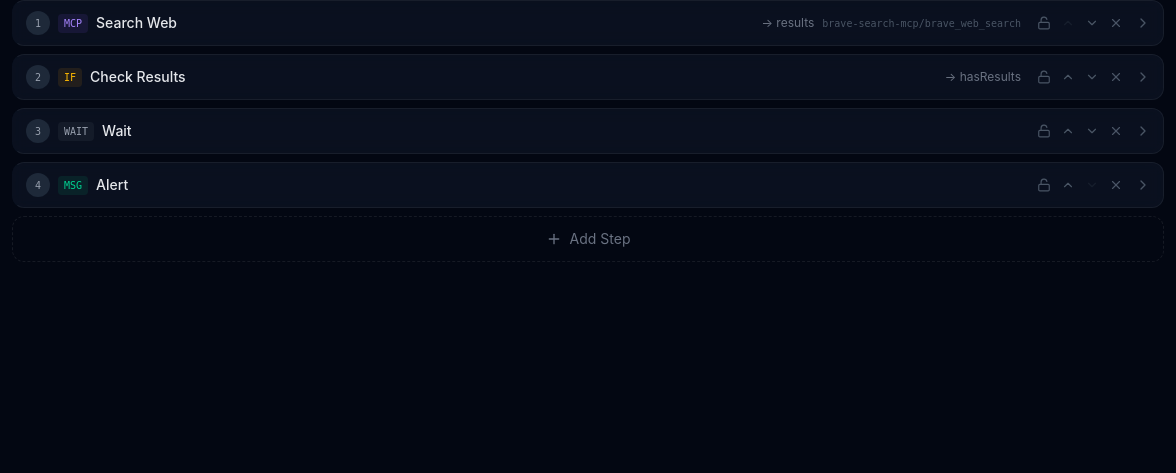
Test: StepEditorPanel › clicking Add Step shows type menu
The width and height of the screenshot is (1176, 473).
Step 1. Click the button "Add Step" → (588,239), box [12,216,1164,262]
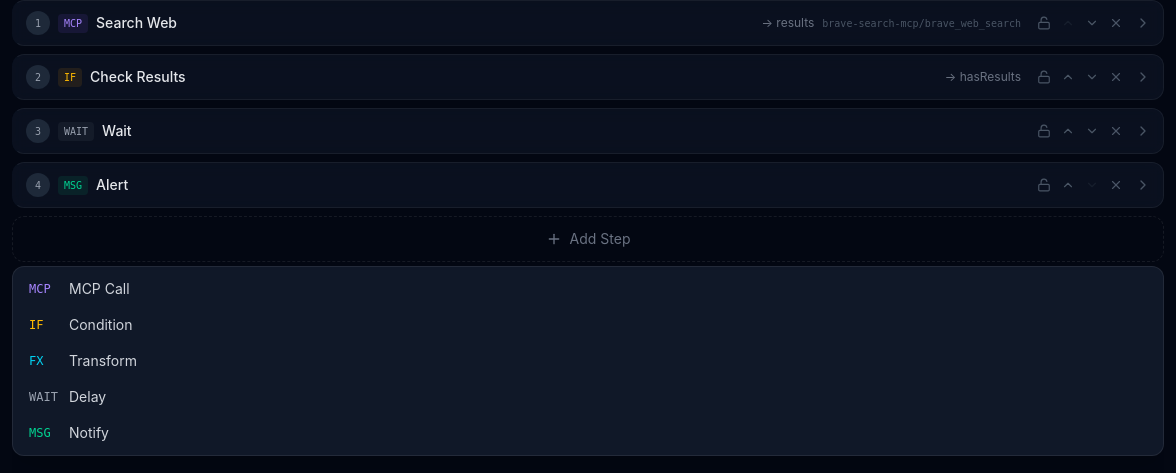
Check: the button "MCP MCP Call" is shown, box [17,271,1159,307]
Check: the button "IF Condition" is shown, box [17,307,1159,343]
Check: the button "FX Transform" is shown, box [17,343,1159,379]
